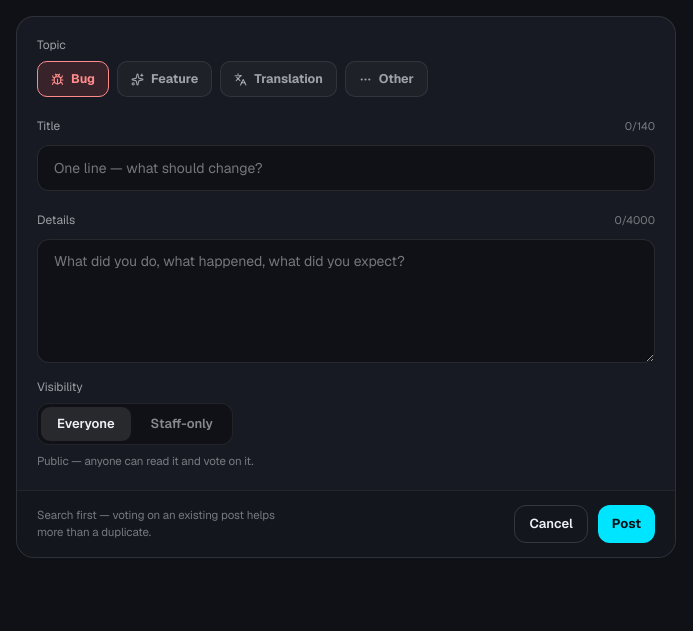
Scenario: NewFeedbackForm › shows a validation message and does not submit when required fields are empty
Click the button "Post" at {"x": 626, "y": 524}, box [598,505,655,543]
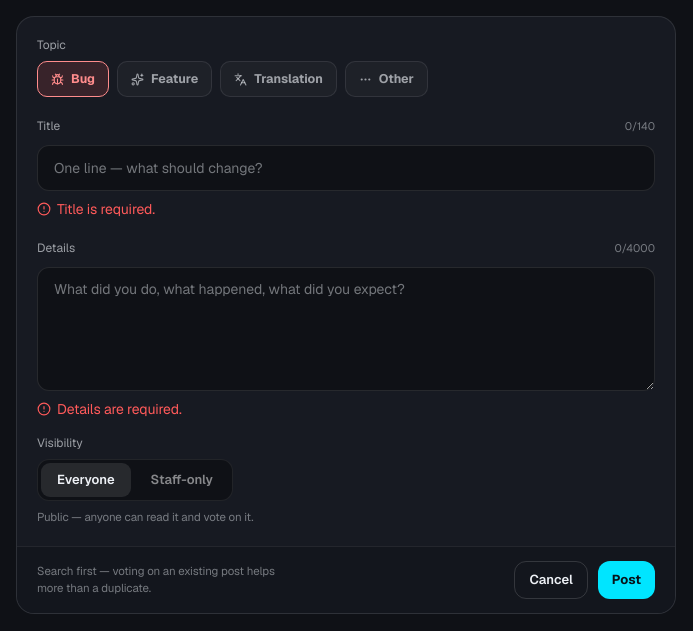
Now the text "Title is required." is shown, box [57,199,155,219]
